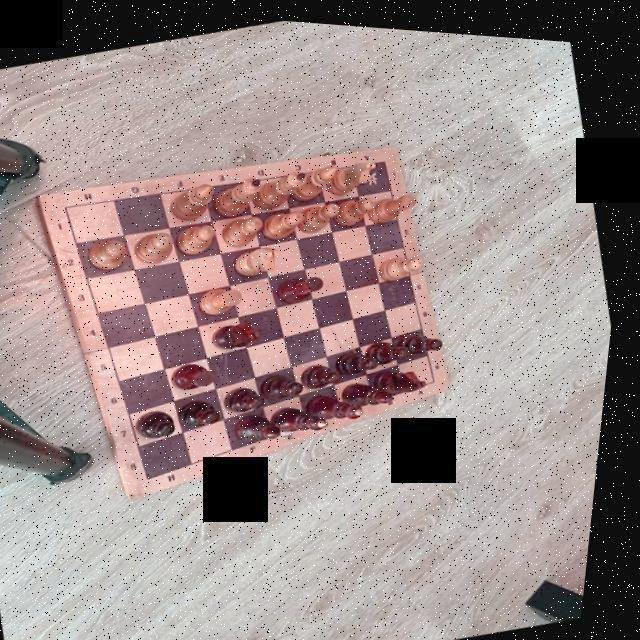chess-table-corners: (148, 469, 165, 482), (60, 200, 76, 212), (434, 369, 446, 380), (380, 150, 392, 160)
